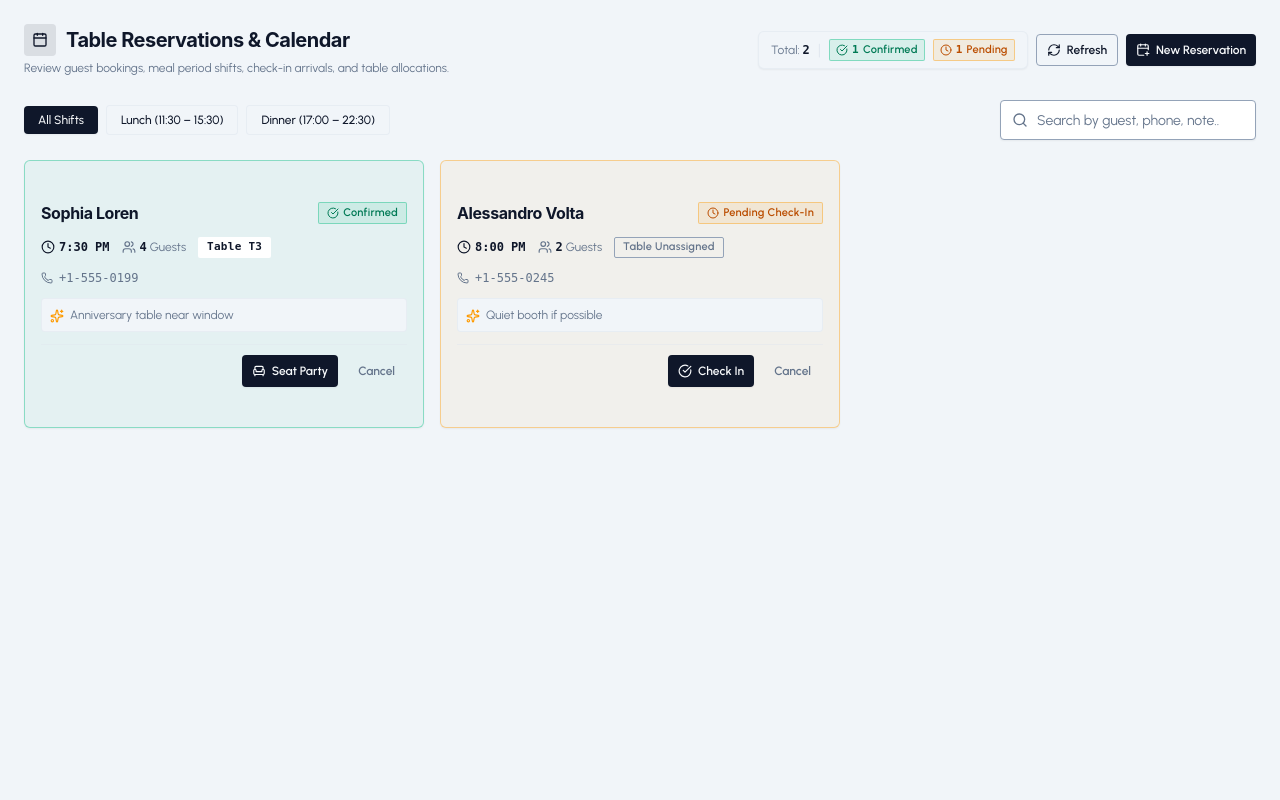
Scenario: ReservationsPage › opens New Reservation dialog
Click the button "New Reservation" at {"x": 1191, "y": 50}, box [1126,34,1256,66]
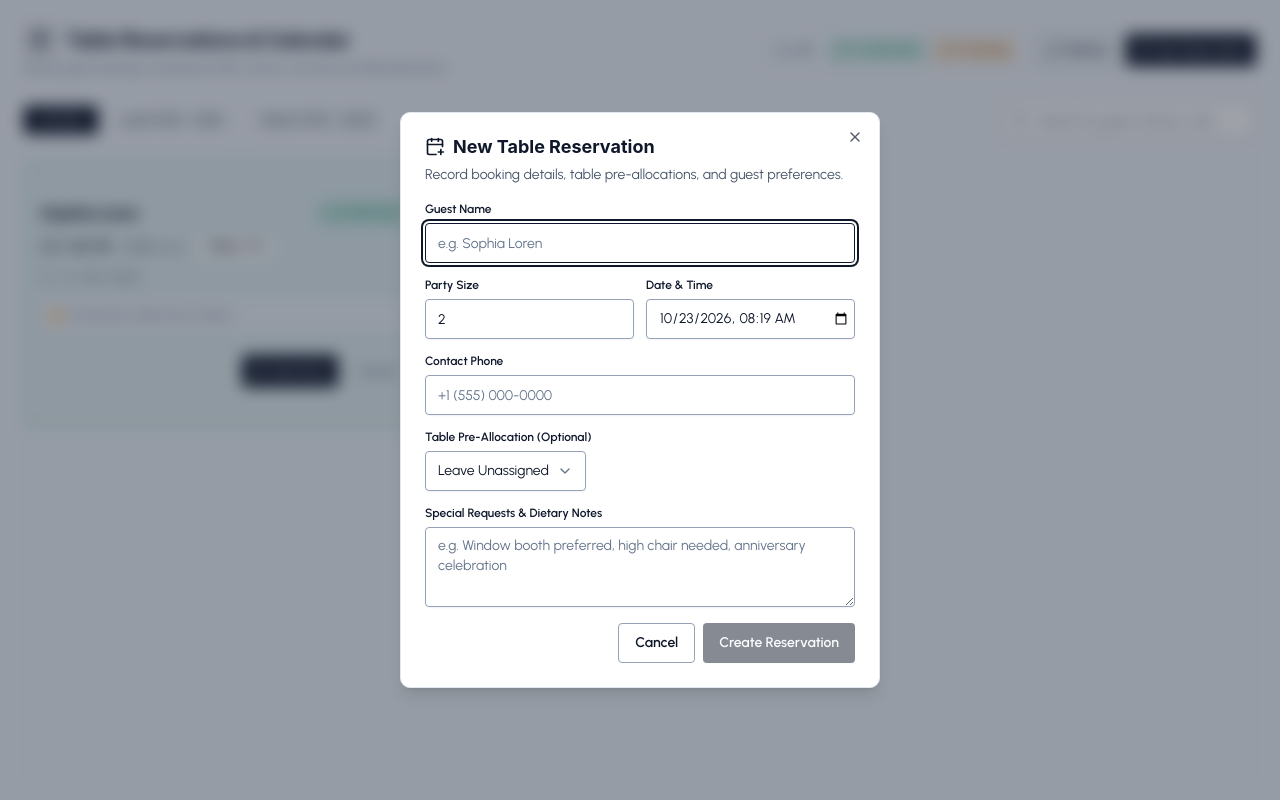
Expected: the heading "New Table Reservation" is shown, [425,136,655,157]
Expected: the field labelled "Guest Name" is shown, [425,223,855,263]
